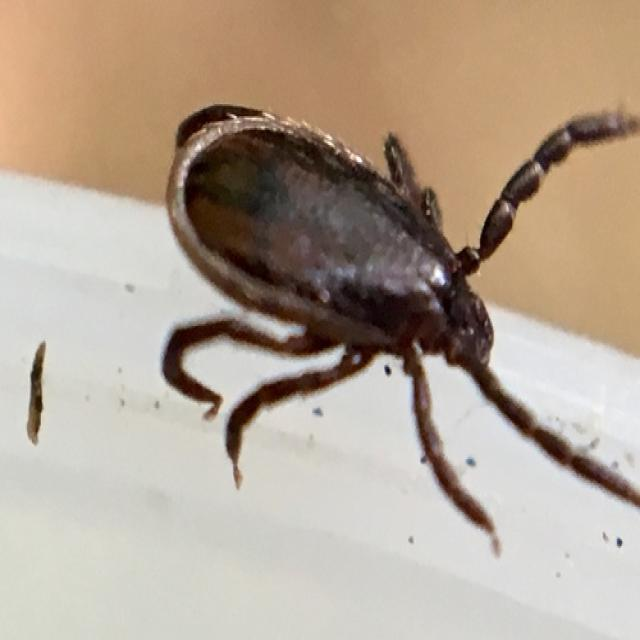Ixodes Ricinus-M: (160, 106, 640, 543)
